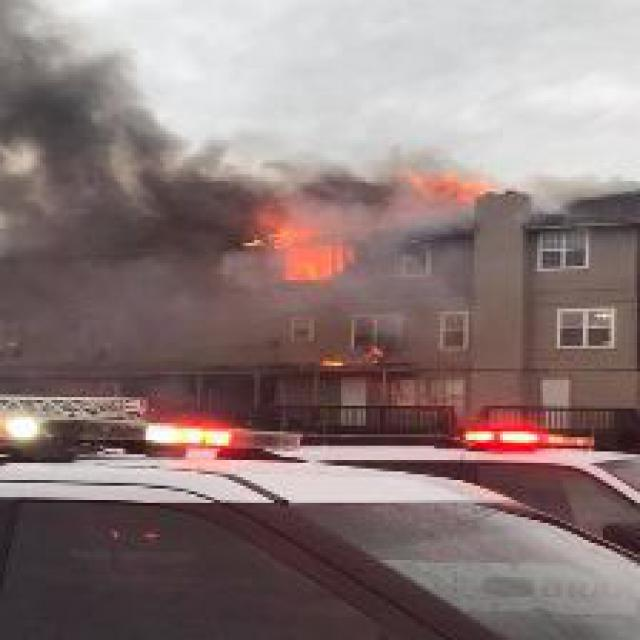fire: (229, 163, 500, 288)
